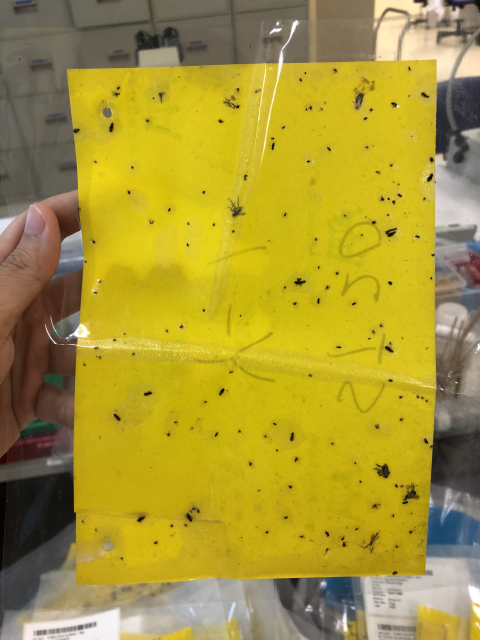DBM: (353, 88, 367, 113)
